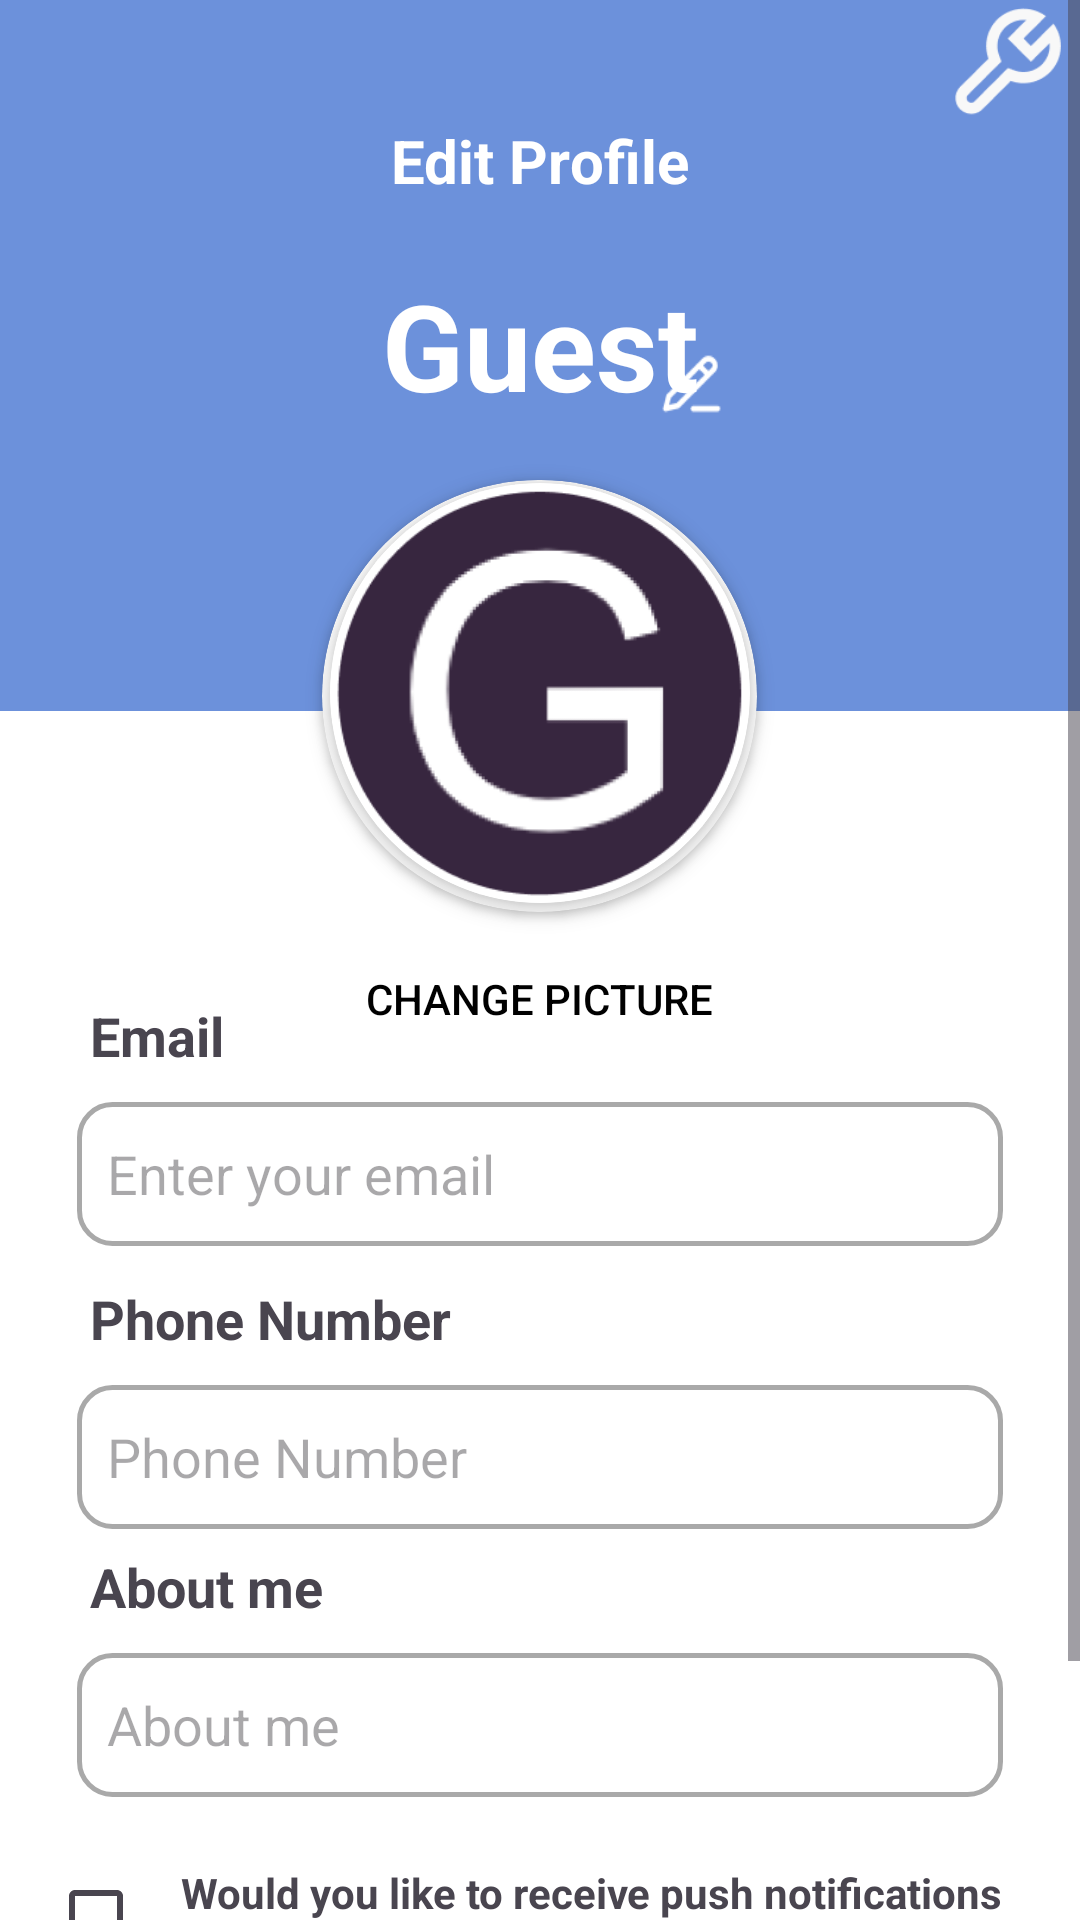

Screen size 1080×1920. Icon name, then its box in pixels as (x1, y1, x2, y2):
admin wrench: (955, 8, 1061, 115)
